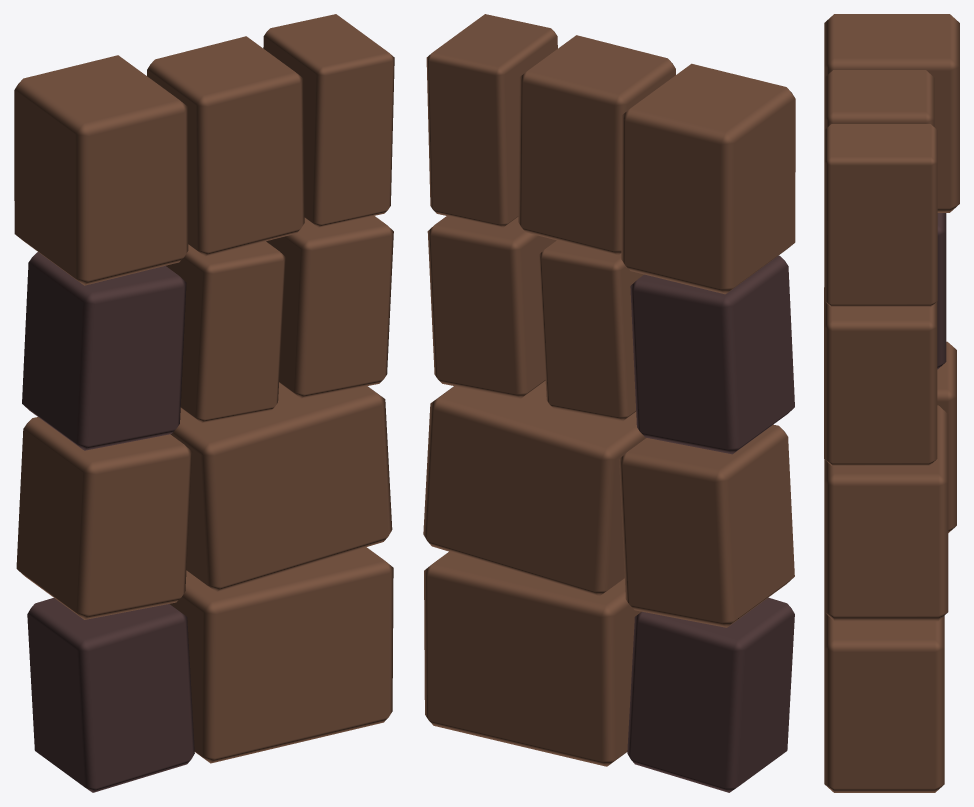
The model's file is ghost-town-cliff-face.85184f20.glb.
The picture shows the model from 3 angles, left to right: view 1: azimuth 30°, elevation 25°; view 2: azimuth 150°, elevation 25°; view 3: azimuth 270°, elevation 25°; orthographic projection. The views are drawn at different scales.
Parts seen in each view (by area): view 1: body; view 2: body; view 3: body.
Boxes of the visible parts, x1=… form: body: x1=14, y1=14, x2=394, y2=792; body: x1=423, y1=14, x2=795, y2=792; body: x1=824, y1=14, x2=959, y2=792.
Bounding box in the file's own units: 0.9804 × 1.98 × 0.3805.
